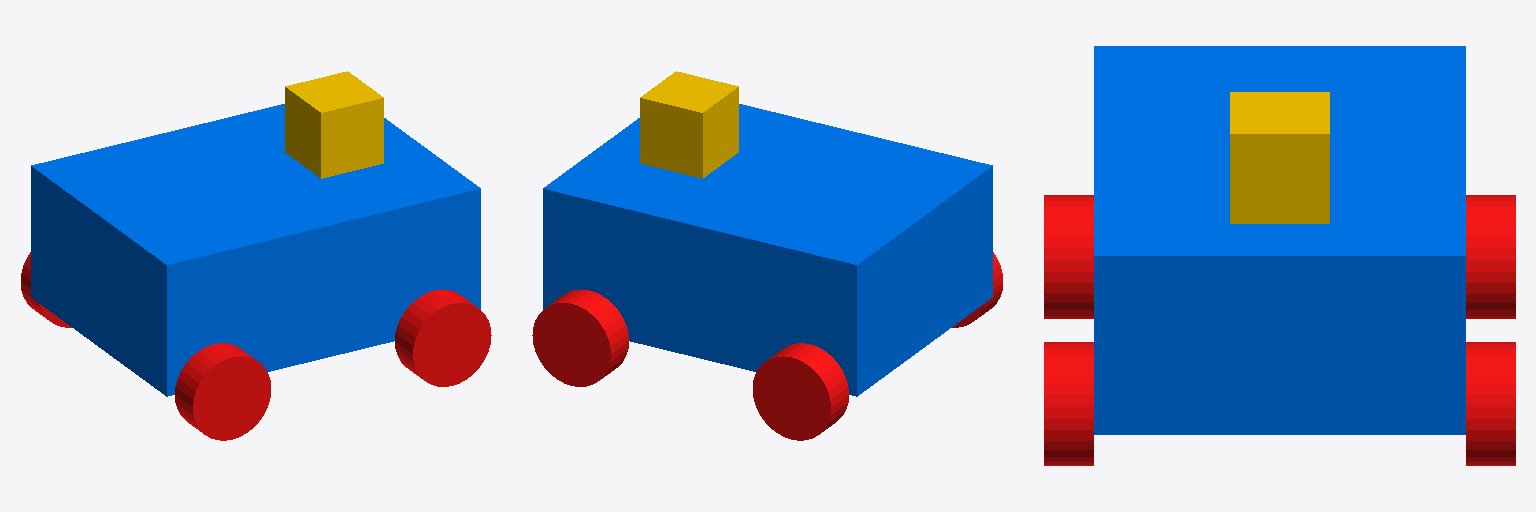
The robot description file, URDF, robot "myrobot":
<?xml version="1.0"?>
<robot name="myrobot">

  <material name="blue">
    <color rgba="0.0 0.5 1.0 1.0"/>
  </material>
  <material name="red">
    <color rgba="1.0 0.1 0.1 1.0"/>
  </material>
  <material name="yellow">
    <color rgba="1.0 0.8 0.0 1.0"/>
  </material>

  <!-- ═══════════════════════════
       CHASSIS
  ═══════════════════════════ -->
  <link name="base_link">
    <inertial>
      <mass value="0.7"/>
      <inertia ixx="0.001" ixy="0.0" ixz="0.0"
               iyy="0.001" iyz="0.0"
               izz="0.002"/>
    </inertial>
    <visual>
      <geometry>
        <box size="0.20 0.15 0.08"/>
      </geometry>
      <material name="blue"/>
    </visual>
    <!-- Collision box is slightly smaller in Z
         so wheels don't intersect chassis physics -->
    <collision>
      <geometry>
        <box size="0.20 0.15 0.06"/>
      </geometry>
    </collision>
  </link>

  <!-- ═══════════════════════════
       CAMERA
       Fixed to chassis top
       X=+0.05 forward
       Z=+0.06 = chassis half(0.04) + cam half(0.02)
  ═══════════════════════════ -->
  <link name="camera_link">
    <inertial>
      <mass value="0.05"/>
      <inertia ixx="0.00001" ixy="0.0" ixz="0.0"
               iyy="0.00001" iyz="0.0"
               izz="0.00001"/>
    </inertial>
    <visual>
      <geometry>
        <box size="0.04 0.04 0.04"/>
      </geometry>
      <material name="yellow"/>
    </visual>
    <collision>
      <geometry>
        <box size="0.04 0.04 0.04"/>
      </geometry>
    </collision>
  </link>

  <joint name="camera_joint" type="fixed">
    <parent link="base_link"/>
    <child link="camera_link"/>
    <origin xyz="0.05 0.0 0.06" rpy="0 0 0"/>
  </joint>

  <!-- ═══════════════════════════
       FRONT LEFT WHEEL
       X=+0.07, Y=+0.085, Z=-0.04
       rpy: roll 90° so cylinder
       stands upright like a wheel
  ═══════════════════════════ -->
  <link name="front_left_wheel">
    <inertial>
      <mass value="0.05"/>
      <inertia ixx="0.0001" ixy="0.0" ixz="0.0"
               iyy="0.0001" iyz="0.0"
               izz="0.0001"/>
    </inertial>
    <visual>
      <geometry>
        <cylinder radius="0.025" length="0.02"/>
      </geometry>
      <material name="red"/>
    </visual>
    <collision>
      <geometry>
        <cylinder radius="0.025" length="0.02"/>
      </geometry>
    </collision>
  </link>

  <joint name="front_left_wheel_joint" type="continuous">
    <parent link="base_link"/>
    <child link="front_left_wheel"/>
    <origin xyz="0.07 0.085 -0.04" rpy="1.5708 0 0"/>
    <axis xyz="0 0 1"/>
  </joint>

  <!-- FRONT RIGHT WHEEL
       X=+0.07, Y=-0.085, Z=-0.04 -->
  <link name="front_right_wheel">
    <inertial>
      <mass value="0.05"/>
      <inertia ixx="0.0001" ixy="0.0" ixz="0.0"
               iyy="0.0001" iyz="0.0"
               izz="0.0001"/>
    </inertial>
    <visual>
      <geometry>
        <cylinder radius="0.025" length="0.02"/>
      </geometry>
      <material name="red"/>
    </visual>
    <collision>
      <geometry>
        <cylinder radius="0.025" length="0.02"/>
      </geometry>
    </collision>
  </link>

  <joint name="front_right_wheel_joint" type="continuous">
    <parent link="base_link"/>
    <child link="front_right_wheel"/>
    <origin xyz="0.07 -0.085 -0.04" rpy="1.5708 0 0"/>
    <axis xyz="0 0 1"/>
  </joint>

  <!-- REAR LEFT WHEEL
       X=-0.07, Y=+0.085, Z=-0.04 -->
  <link name="rear_left_wheel">
    <inertial>
      <mass value="0.05"/>
      <inertia ixx="0.0001" ixy="0.0" ixz="0.0"
               iyy="0.0001" iyz="0.0"
               izz="0.0001"/>
    </inertial>
    <visual>
      <geometry>
        <cylinder radius="0.025" length="0.02"/>
      </geometry>
      <material name="red"/>
    </visual>
    <collision>
      <geometry>
        <cylinder radius="0.025" length="0.02"/>
      </geometry>
    </collision>
  </link>

  <joint name="rear_left_wheel_joint" type="continuous">
    <parent link="base_link"/>
    <child link="rear_left_wheel"/>
    <origin xyz="-0.07 0.085 -0.04" rpy="1.5708 0 0"/>
    <axis xyz="0 0 1"/>
  </joint>

  <!-- REAR RIGHT WHEEL
       X=-0.07, Y=-0.085, Z=-0.04 -->
  <link name="rear_right_wheel">
    <inertial>
      <mass value="0.05"/>
      <inertia ixx="0.0001" ixy="0.0" ixz="0.0"
               iyy="0.0001" iyz="0.0"
               izz="0.0001"/>
    </inertial>
    <visual>
      <geometry>
        <cylinder radius="0.025" length="0.02"/>
      </geometry>
      <material name="red"/>
    </visual>
    <collision>
      <geometry>
        <cylinder radius="0.025" length="0.02"/>
      </geometry>
    </collision>
  </link>

  <joint name="rear_right_wheel_joint" type="continuous">
    <parent link="base_link"/>
    <child link="rear_right_wheel"/>
    <origin xyz="-0.07 -0.085 -0.04" rpy="1.5708 0 0"/>
    <axis xyz="0 0 1"/>
  </joint>

</robot>

--- What the picture shows (computed from the rendered views, not written in the file) ---
The picture shows the robot from 3 angles, left to right: view 1: azimuth 30°, elevation 25°; view 2: azimuth 150°, elevation 25°; view 3: azimuth 270°, elevation 25°; orthographic projection.
Model myrobot with 6 links and 5 joints (4 continuous, 1 fixed), rooted at base_link, posed all joints at 0.
Visible links, largest first — view 1: base_link, camera_link, rear_right_wheel, front_right_wheel, rear_left_wheel; view 2: base_link, camera_link, rear_left_wheel, front_left_wheel, rear_right_wheel; view 3: base_link, camera_link, front_left_wheel, front_right_wheel, rear_left_wheel, rear_right_wheel.
Link boxes in pixels (box(x1,y1,x2,y2)): base_link: box(31, 104, 480, 396); camera_link: box(285, 71, 383, 178); rear_right_wheel: box(175, 343, 270, 440); front_right_wheel: box(395, 289, 491, 386); rear_left_wheel: box(21, 252, 71, 327); base_link: box(543, 104, 992, 396); camera_link: box(640, 71, 738, 178); rear_left_wheel: box(753, 343, 848, 440); front_left_wheel: box(532, 289, 628, 386); rear_right_wheel: box(952, 252, 1002, 327); base_link: box(1094, 46, 1465, 434); camera_link: box(1230, 92, 1329, 223); front_left_wheel: box(1466, 342, 1515, 465); front_right_wheel: box(1044, 342, 1093, 465); rear_left_wheel: box(1466, 195, 1515, 318); rear_right_wheel: box(1044, 195, 1093, 318).
Size in the robot's own frame: 0.2 by 0.19 by 0.145 metres.
Geometry: primitives only (box / cylinder / sphere), no mesh files.
